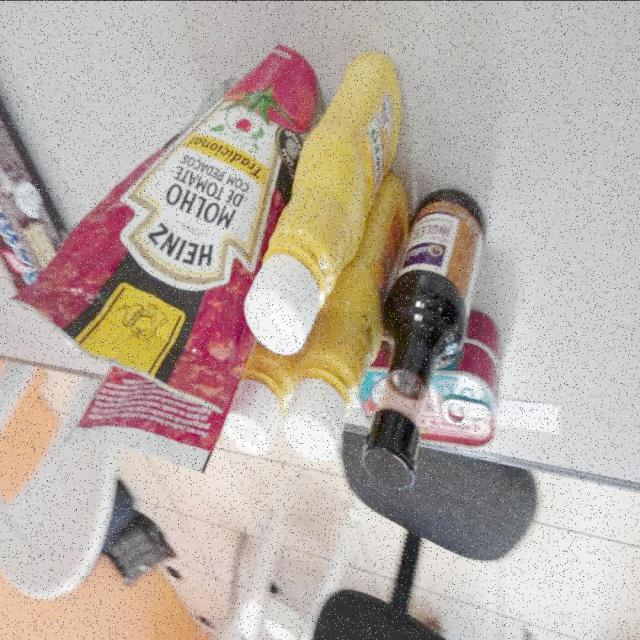Cookies: (0, 84, 72, 270), (0, 190, 41, 296)
EnglishSauce: (362, 187, 486, 485)
Mustard: (246, 49, 406, 356), (284, 172, 411, 462), (218, 352, 302, 455)
TomatoSauce: (11, 41, 318, 414), (61, 363, 244, 474)
TunaCan: (360, 335, 498, 447), (467, 309, 502, 356)
